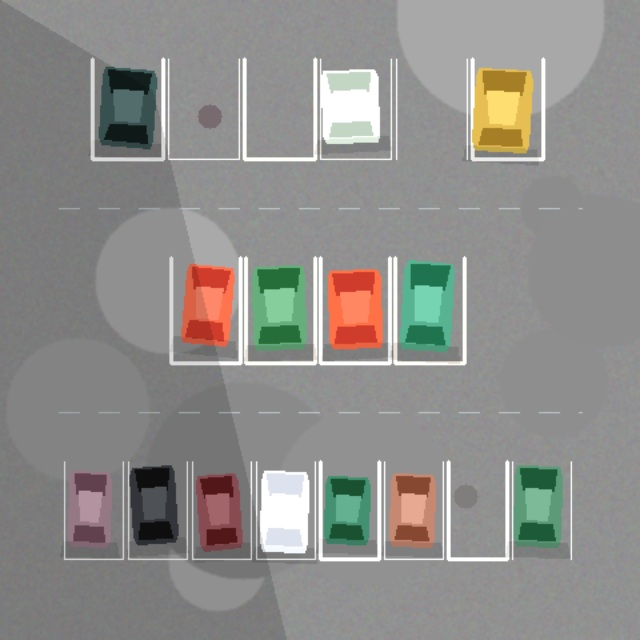space-empty: (168, 59, 239, 159), (244, 59, 315, 159), (396, 59, 467, 159), (448, 461, 507, 559)
space-occupied: (245, 257, 315, 363), (171, 257, 240, 363), (320, 257, 389, 363), (395, 257, 464, 363), (92, 59, 163, 159), (320, 59, 391, 159), (472, 59, 543, 159), (64, 461, 123, 559), (128, 461, 187, 559), (192, 461, 251, 559), (256, 461, 315, 559), (320, 461, 379, 559), (384, 461, 443, 559), (512, 461, 571, 559)
